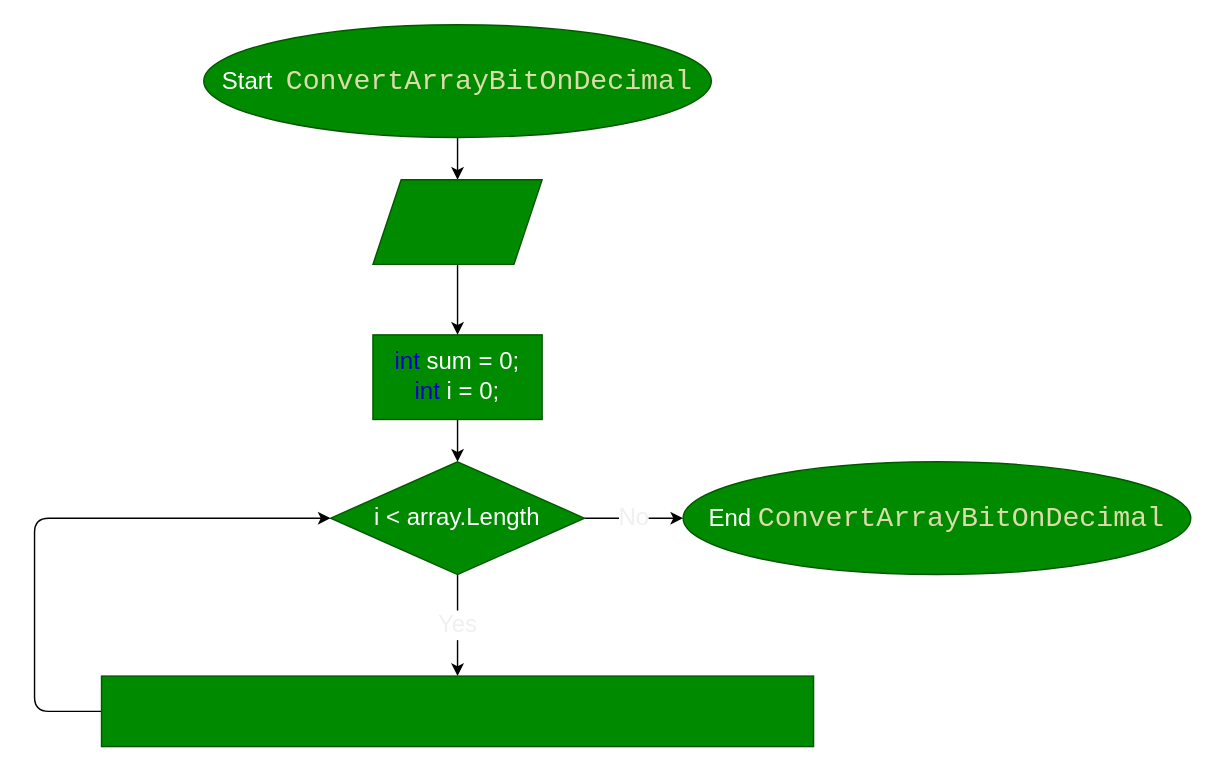
Some shapes in this 1215 by 771 pixel diagram are drawn without their labels. Each missing label, with the centre of its shape:
int [] aray;: (457,221)
sum = sum + array[i]*Math.Pow(2, array.Length - i -1);: (457,711)
